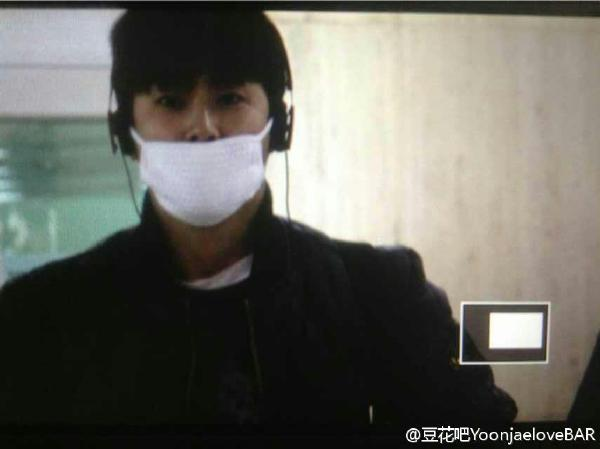WRONG: (129, 56, 266, 222)
